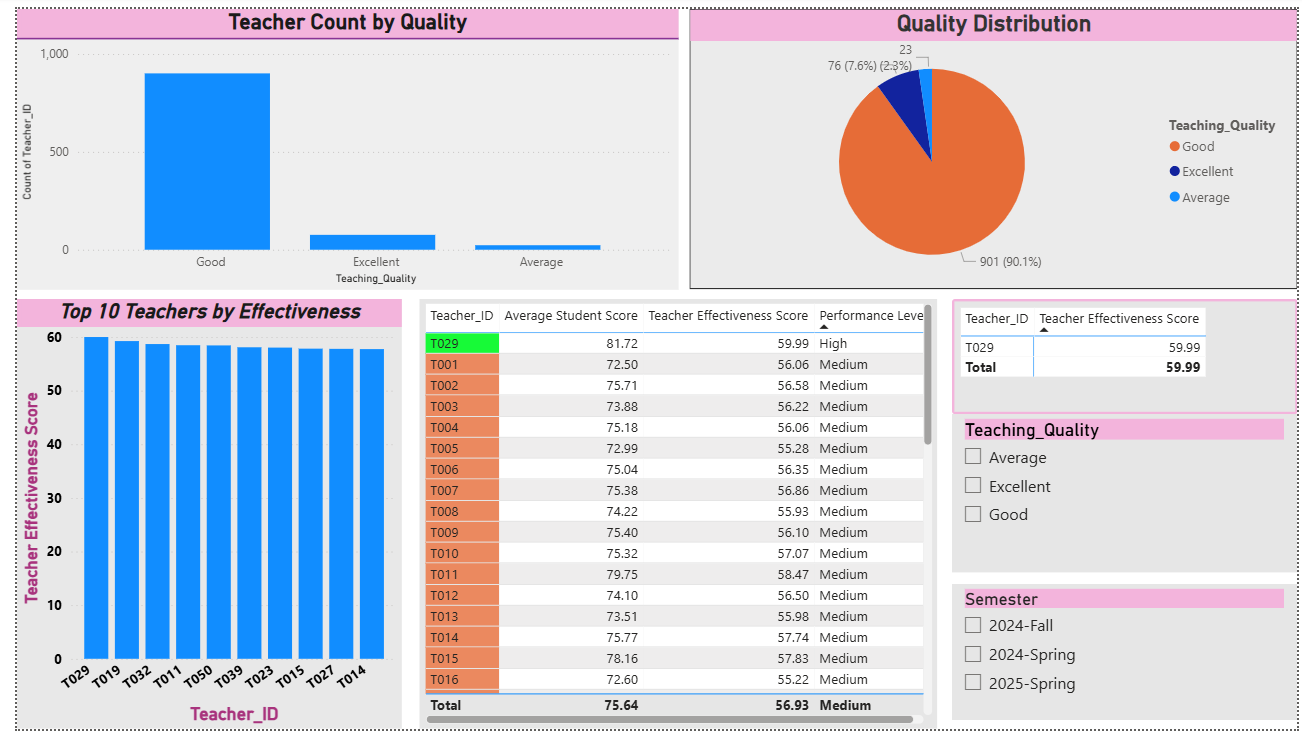

Layout of this report page (visuals, bound fields, positions):
{"tool":"powerbi","page":{"name":"Page 2Detailed Analysis","canvas":[1280,720],"ordinal":1},"visuals":[{"type":"clusteredColumnChart","title":"Top 10 Teachers by Effectiveness","fields":{"Category":["Teaching_Quality_Evaluation_CEMP.Teacher_ID"],"Y":["Teaching_Quality_Evaluation_CEMP.Teacher Score"]},"box":[0,289.5,384.8,429.8],"z":0},{"type":"tableEx","fields":{"Values":["Teaching_Quality_Evaluation_CEMP.Teacher_ID","Teaching_Quality_Evaluation_CEMP.Avg Score","Teaching_Quality_Evaluation_CEMP.Teacher Score","Teaching_Quality_Evaluation_CEMP.Performance Level"]},"box":[402.8,289.5,517.9,429.8],"z":1},{"type":"columnChart","title":"Teacher Count by Quality","fields":{"Category":["Teaching_Quality_Evaluation_CEMP.Teaching_Quality"],"Y":["CountNonNull(Teaching_Quality_Evaluation_CEMP.Teacher_ID)"]},"box":[0,0,661.8,280.5],"z":2},{"type":"pieChart","title":"Quality Distribution","fields":{"Category":["Teaching_Quality_Evaluation_CEMP.Teaching_Quality"],"Y":["CountNonNull(Teaching_Quality_Evaluation_CEMP.Teacher_ID)"]},"box":[672.6,0,607.7,280],"z":3},{"type":"pivotTable","fields":{"Rows":["Teaching_Quality_Evaluation_CEMP.Teacher_ID"],"Values":["Teaching_Quality_Evaluation_CEMP.Teacher Score"]},"box":[935.1,289.5,345.3,115.1],"z":4},{"type":"slicer","fields":{"Values":["Teaching_Quality_Evaluation_CEMP.Teaching_Quality"]},"box":[935.1,404.6,345.3,158.2],"z":5},{"type":"slicer","fields":{"Values":["Teaching_Quality_Evaluation_CEMP.Semester"]},"box":[935.1,575.4,345.3,136],"z":6}]}

Visuals, with their boxes in screenshot pixels (x1, y1, x2, y2), scaled from the page's 1280x720 canvas onto the 1302x734 screenshot:
"Top 10 Teachers by Effectiveness" clusteredColumnChart: 0, 295, 391, 733
tableEx - Teaching_Quality_Evaluation_CEMP.Teacher_ID x Teaching_Quality_Evaluation_CEMP.Avg Score: 410, 295, 937, 733
"Teacher Count by Quality" columnChart: 0, 0, 673, 286
"Quality Distribution" pieChart: 684, 0, 1301, 285
pivotTable - Teaching_Quality_Evaluation_CEMP.Teacher_ID x Teaching_Quality_Evaluation_CEMP.Teacher Score: 951, 295, 1301, 412
slicer - Teaching_Quality_Evaluation_CEMP.Teaching_Quality: 951, 412, 1301, 574
slicer - Teaching_Quality_Evaluation_CEMP.Semester: 951, 587, 1301, 725
